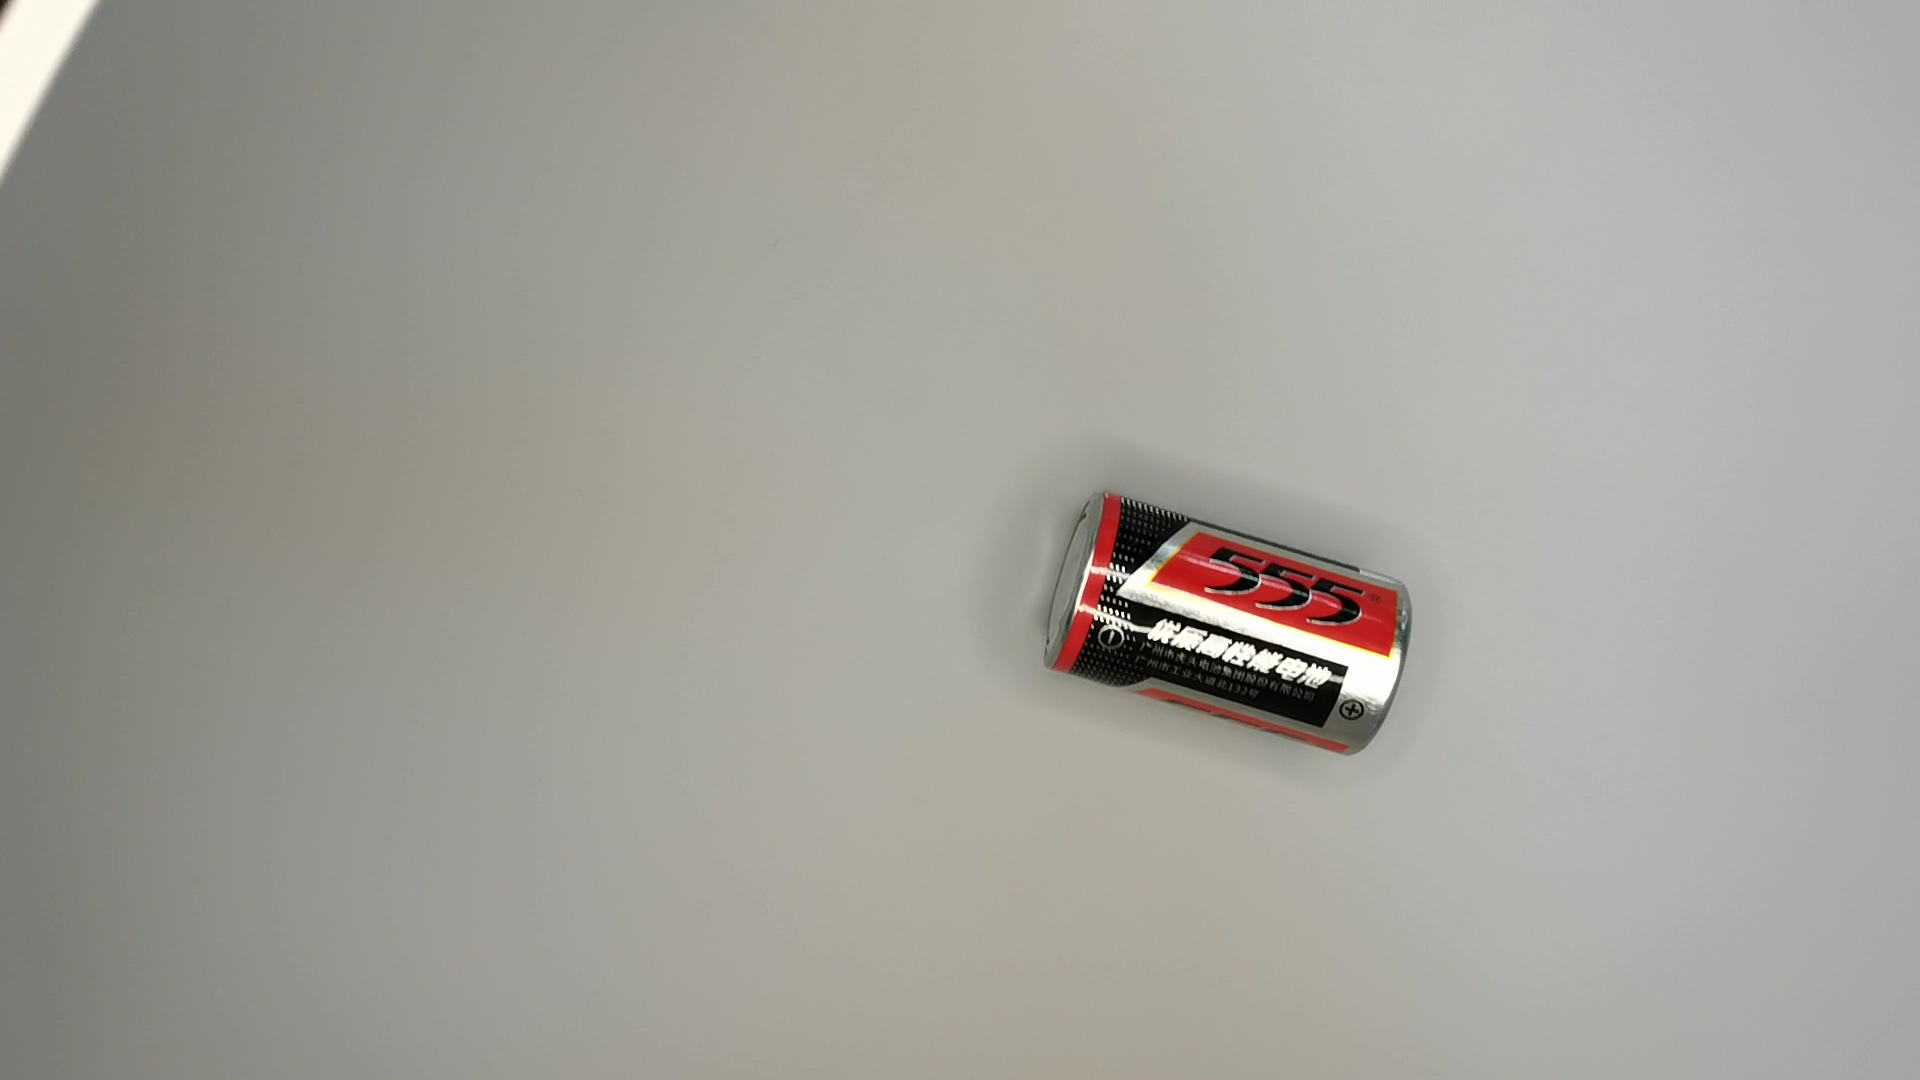battery: (1036, 477, 1419, 760)
